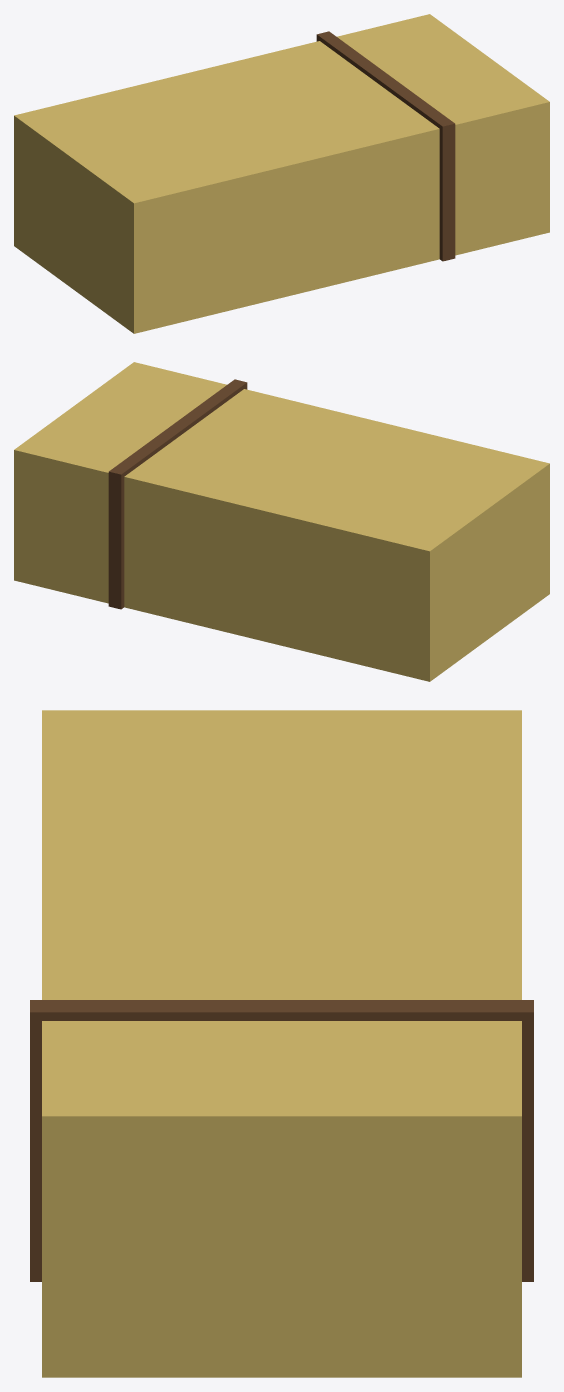
The model's file is FD_HayFlake_01.glb.
3 views of the same model, one above another, from view 1: azimuth 30°, elevation 25°; view 2: azimuth 150°, elevation 25°; view 3: azimuth 270°, elevation 25° (orthographic). The views are drawn at different scales.
Parts seen in each view (by area): view 1: FD_HayFlake_01; view 2: FD_HayFlake_01; view 3: FD_HayFlake_01.
Part boxes in pixels (<box>): FD_HayFlake_01: <box>14,14,549,333</box>; FD_HayFlake_01: <box>14,362,549,681</box>; FD_HayFlake_01: <box>30,710,533,1377</box>.
Size of the model in its own units: 0.4 by 0.124 by 0.21.
Materials: 1 (1 with a texture image).
